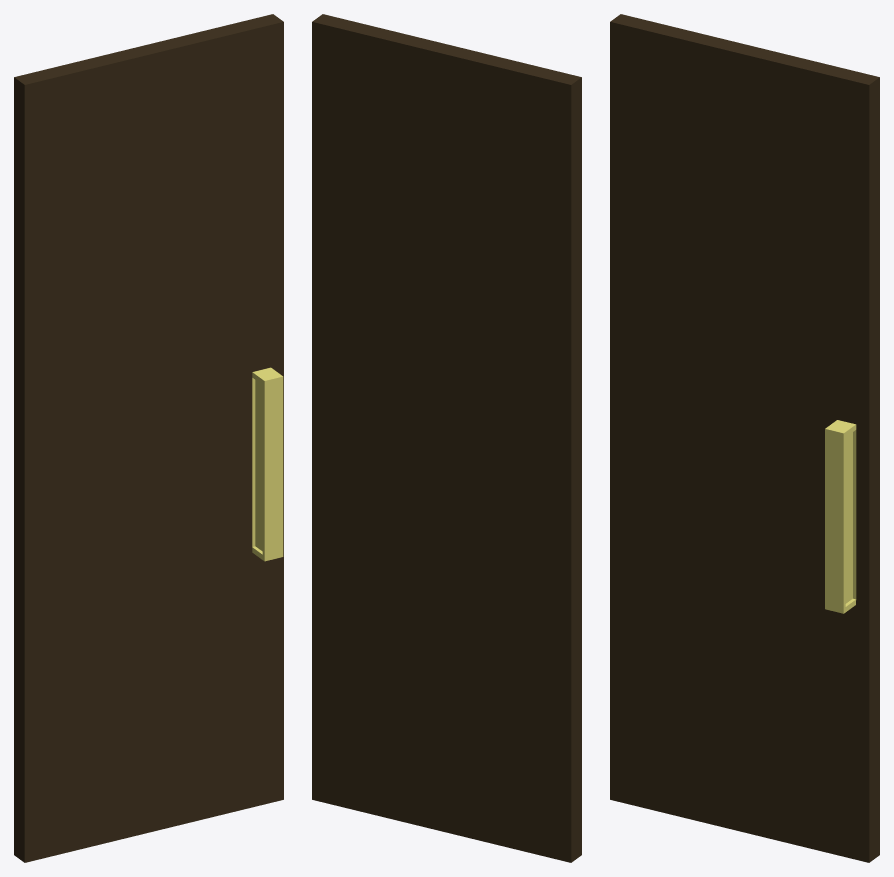
Rendered from Itr_Wardrobe3_Door_Left_02.FBX.
3 renders of one model, left to right at view 1: azimuth 30°, elevation 25°; view 2: azimuth 150°, elevation 25°; view 3: azimuth 330°, elevation 25°, orthographic.
Visible parts, largest first — view 1: Itr_Wardrobe3_Door_Left_02; view 2: Itr_Wardrobe3_Door_Left_02; view 3: Itr_Wardrobe3_Door_Left_02.
Boxes of the visible parts, x1,y1,x2,y2 form: Itr_Wardrobe3_Door_Left_02: [14, 14, 283, 862]; Itr_Wardrobe3_Door_Left_02: [312, 14, 581, 862]; Itr_Wardrobe3_Door_Left_02: [610, 14, 879, 862].
Bounding box in the file's own units: 20.07 × 57.59 × 3.1.
